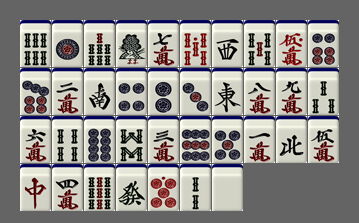0m: (276, 20, 307, 67)
0p: (148, 164, 179, 211)
0s: (180, 20, 211, 67)
1m: (244, 116, 275, 163)
1p: (52, 20, 83, 67)
1s: (116, 20, 147, 67)
1z: (212, 68, 243, 115)
2m: (52, 68, 83, 115)
2p: (148, 68, 179, 115)
2s: (180, 164, 211, 211)
2z: (84, 68, 115, 115)
3m: (148, 116, 179, 163)
3p: (180, 68, 211, 115)
3s: (308, 68, 339, 115)
3z: (212, 20, 243, 67)
4m: (52, 164, 83, 211)
4p: (116, 68, 147, 115)
4s: (52, 116, 83, 163)
4z: (276, 116, 307, 163)
5m: (308, 116, 339, 163)
5p: (212, 116, 243, 163)
5s: (244, 20, 275, 67)
5z: (212, 164, 243, 211)
6m: (20, 116, 51, 163)
6p: (308, 20, 339, 67)
6s: (20, 20, 51, 67)
6z: (116, 164, 147, 211)
7m: (148, 20, 179, 67)
7p: (20, 68, 51, 115)
7s: (84, 20, 115, 67)
7z: (20, 164, 51, 211)
8m: (244, 68, 275, 115)
8p: (84, 116, 115, 163)
8s: (116, 116, 147, 163)
9m: (276, 68, 307, 115)
9p: (180, 116, 211, 163)
9s: (84, 164, 115, 211)
